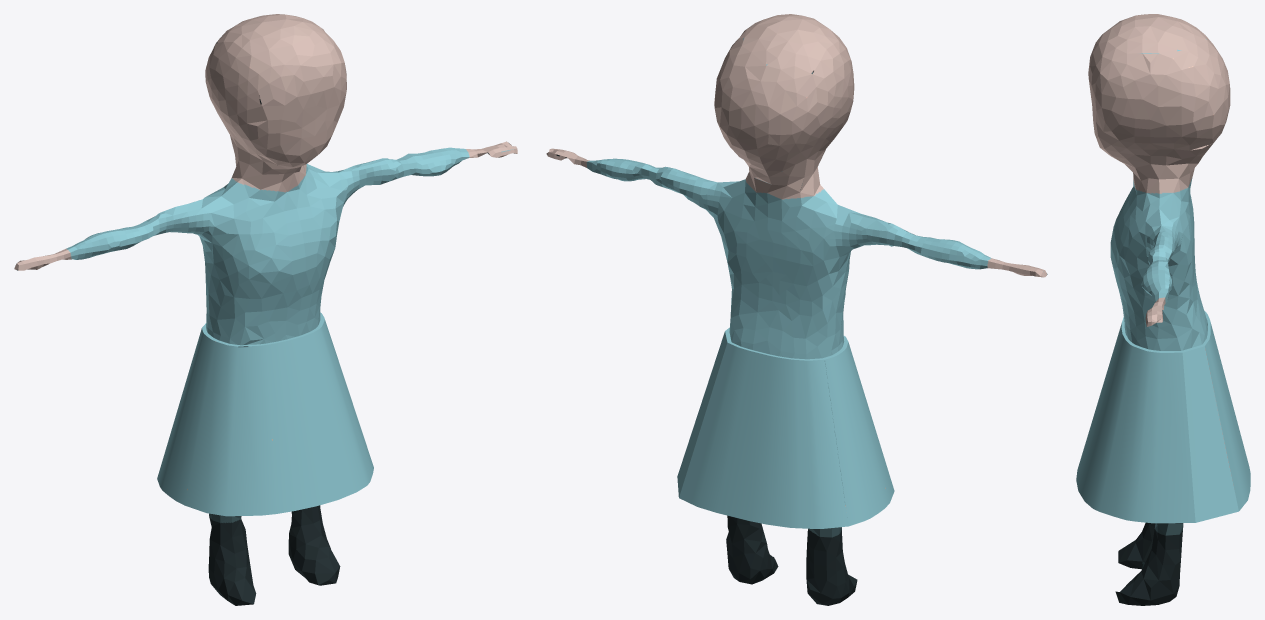
Rendered from girl_3.fbx.
The picture shows the model from 3 angles, left to right: view 1: azimuth 30°, elevation 25°; view 2: azimuth 150°, elevation 25°; view 3: azimuth 270°, elevation 25°; orthographic projection.
Visible parts, largest first — view 1: girl_.003; view 2: girl_.003; view 3: girl_.003.
Boxes of the visible parts, x1,y1,x2,y2 form: girl_.003: (14, 14, 517, 605); girl_.003: (546, 14, 1047, 605); girl_.003: (1076, 14, 1250, 605).
Size of the model in its own units: 290 by 314 by 87.91.
1 material, 1 textured.
